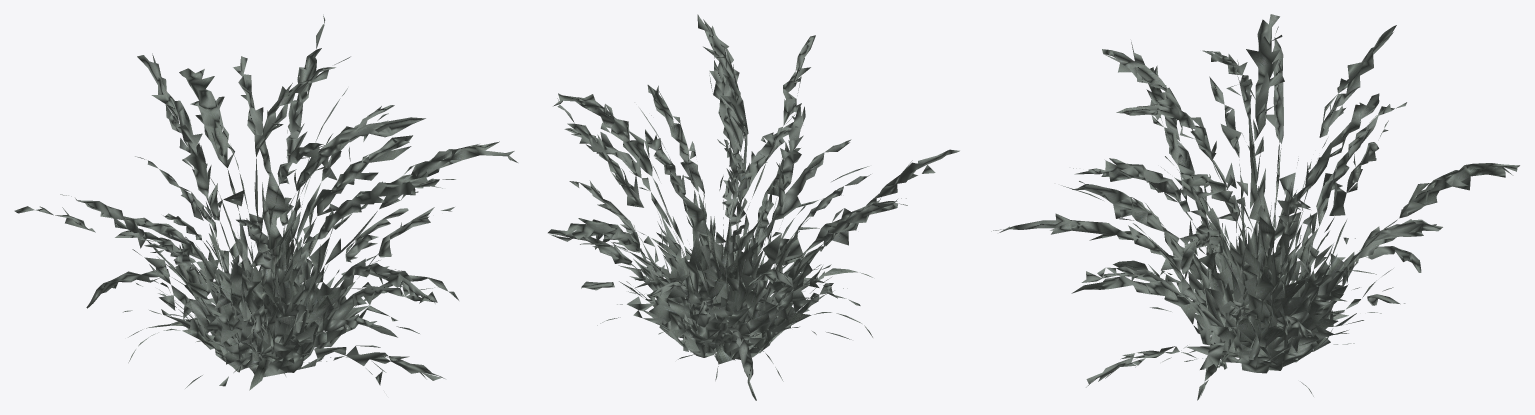
Rendered from links_marram.1a43521b.glb.
3 views of the same model, side by side, from view 1: azimuth 30°, elevation 25°; view 2: azimuth 150°, elevation 25°; view 3: azimuth 270°, elevation 25° (orthographic). The views are drawn at different scales.
Size of the model in its own units: 1.76 by 1.27 by 1.82.
1 material, 1 textured.
